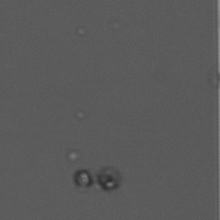Dead Cell: (99, 166, 120, 191), (73, 168, 91, 187)
